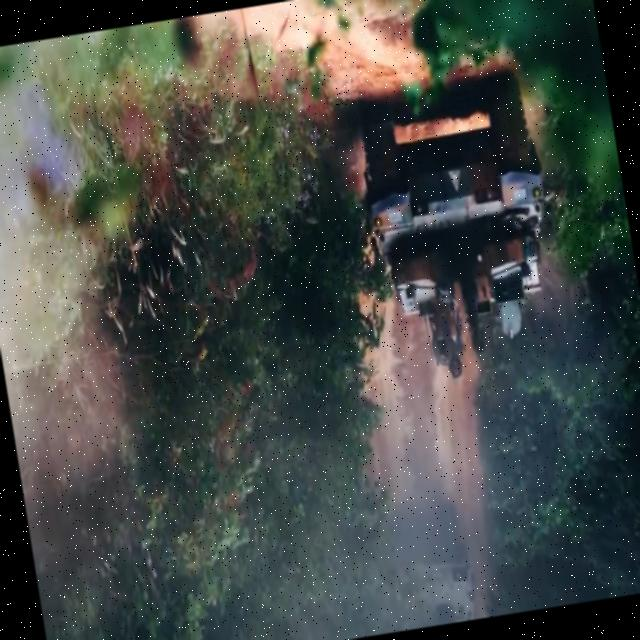korea tank: (346, 67, 574, 390)
